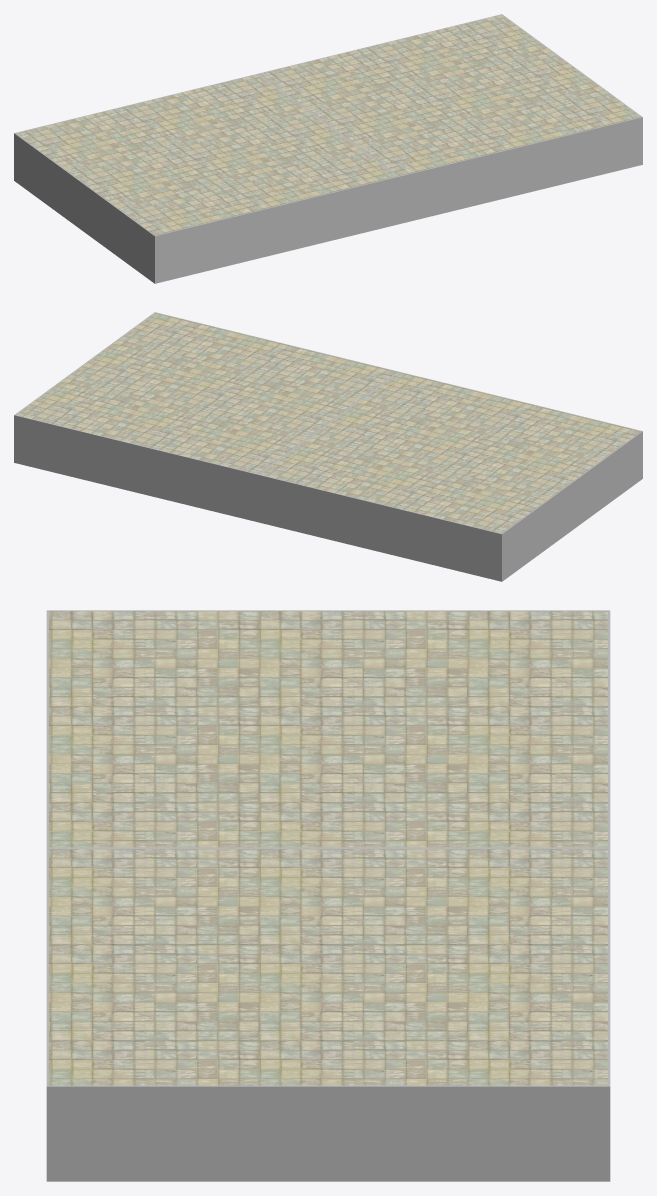
Rendered from road_w01b_inx2.fbx.
3 views of the same model, one above another, from view 1: azimuth 30°, elevation 25°; view 2: azimuth 150°, elevation 25°; view 3: azimuth 270°, elevation 25° (orthographic). The views are drawn at different scales.
Parts seen in each view (by area): view 1: road_w01b_inx2; view 2: road_w01b_inx2; view 3: road_w01b_inx2.
Boxes of the visible parts, x1,y1,x2,y2 form: road_w01b_inx2: (14,14,642,283); road_w01b_inx2: (14,312,642,581); road_w01b_inx2: (46,610,610,1181).
Size of the model in its own units: 24 by 2.24 by 12.
